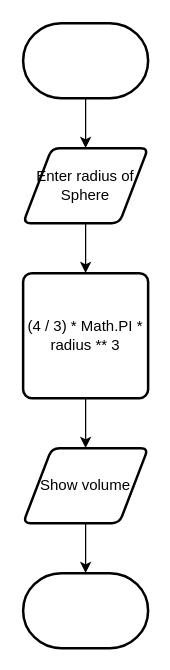
The diagram is 170 pixels wide and 670 high, and some of its shapes have lost their labels. The shapes that lost their labels are listed below. From the top down, each one's centre as x and y in pixels, then its label:
At [85,60]: "Start".
At [85,610]: "Stop".
